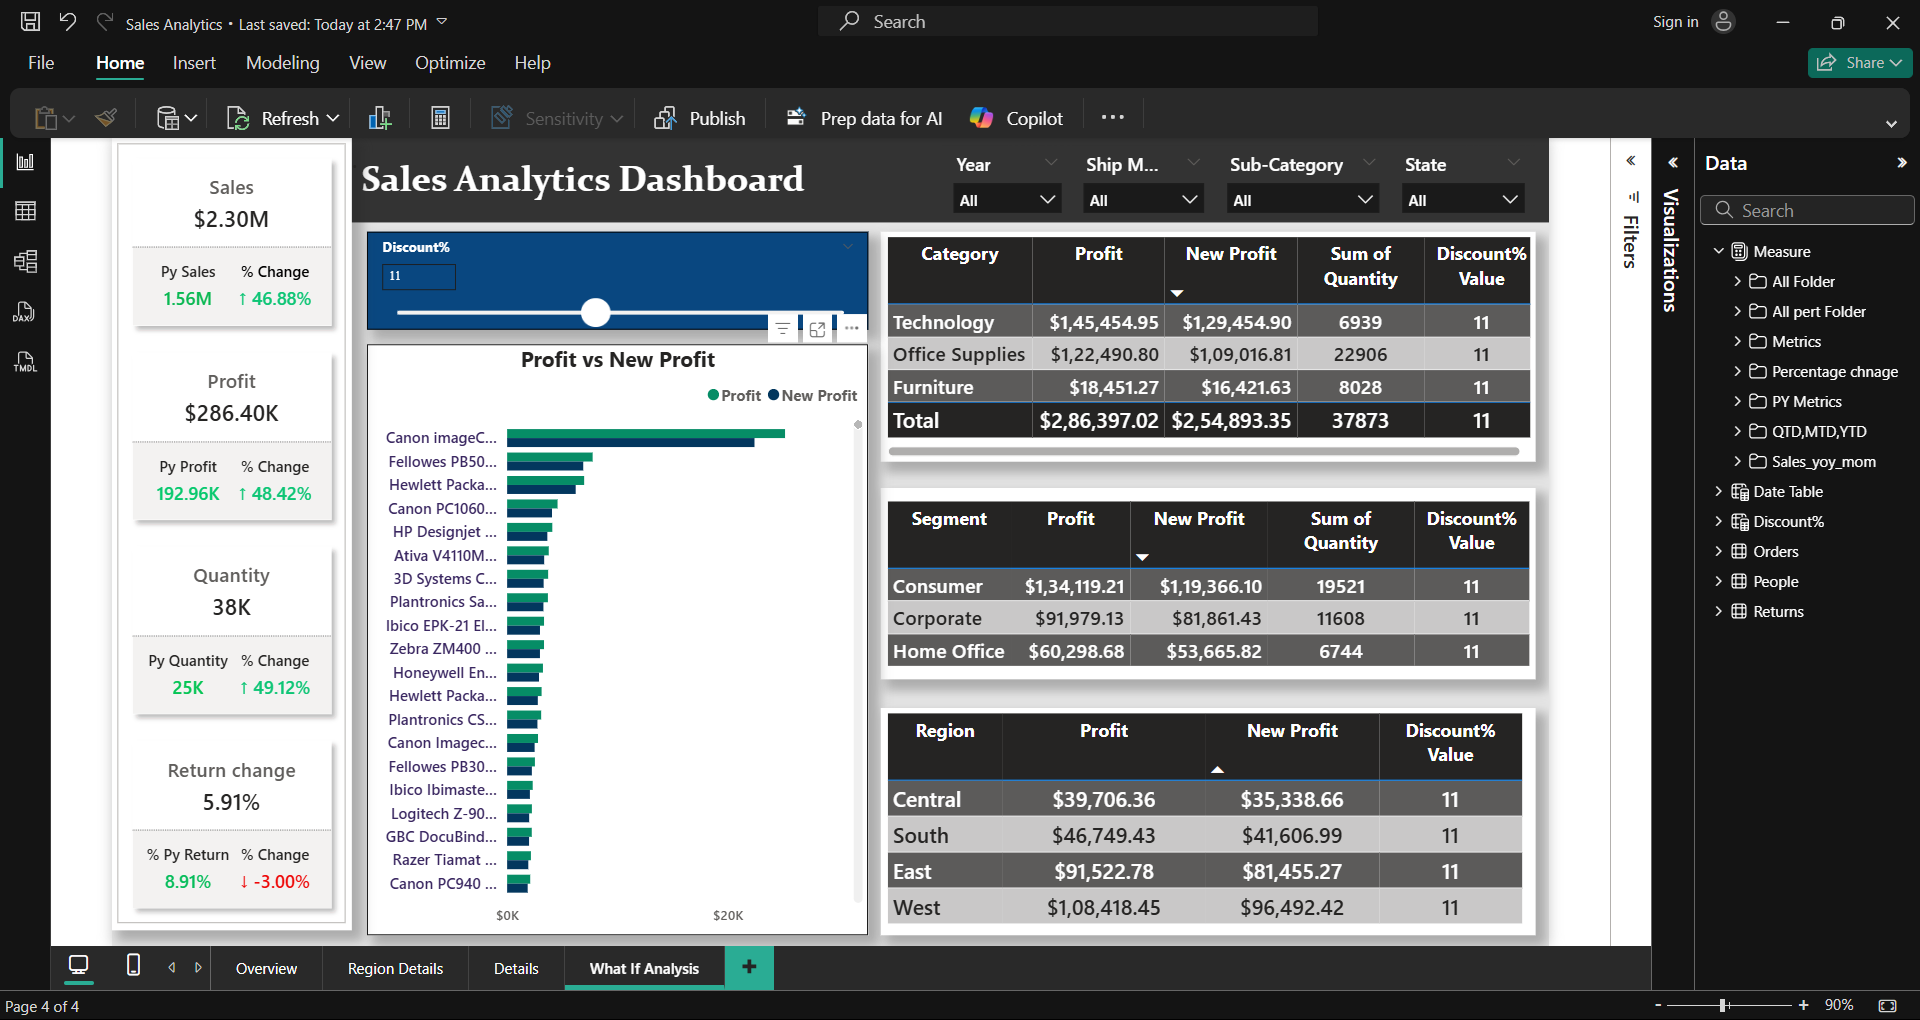

This screenshot's page, from the dashboard's own definition file:
{"tool":"powerbi","page":{"name":"What If Analysis","canvas":[1280,720],"ordinal":3},"visuals":[{"type":"textbox","box":[198.8,0,1081,74.8],"z":1000},{"type":"slicer","fields":{"Values":["Orders.State"]},"box":[1138.7,6.1,128.8,60.1],"z":2000},{"type":"slicer","fields":{"Values":["Orders.Sub-Category"]},"box":[982.9,6.7,155.8,60.1],"z":3000},{"type":"slicer","fields":{"Values":["Orders.Ship Mode"]},"box":[843.8,6.7,139.1,60.1],"z":4000},{"type":"slicer","fields":{"Values":["Date Table.Year"]},"box":[739.2,6.7,104.6,60.1],"z":5000},{"type":"tableEx","fields":{"Values":["Orders.Category","Measure.Profit","Discount%.New Profit","Sum(Orders.Quantity)","Discount%.Discount% Value"]},"box":[684.6,83.5,583.3,204.8],"z":6000},{"type":"slicer","fields":{"Values":["Discount%.Discount%"]},"box":[227,83.4,446.6,87.1],"z":7000},{"type":"tableEx","fields":{"Values":["Orders.Segment","Measure.Profit","Discount%.New Profit","Sum(Orders.Quantity)","Discount%.Discount% Value"]},"box":[684.7,311.7,582.8,170.6],"z":8000},{"type":"clusteredBarChart","title":"Profit vs New Profit","fields":{"Category":["Orders.Product Name"],"Y":["Measure.Profit","Discount%.New Profit"]},"box":[227,184.1,446.6,526.4],"z":9000},{"type":"tableEx","fields":{"Values":["Orders.Region","Measure.Profit","Discount%.New Profit","Discount%.Discount% Value"]},"box":[684.7,508,582.8,202.5],"z":10000},{"type":"cardVisual","fields":{"Data":["Measure.Sales","Measure.Profit","Measure.Quantity","Measure.% Return change"]},"box":[0,0,213.5,705.5],"z":10001}]}

Visuals, with their boxes on the page's 1280x720 design canvas (x1, y1, x2, y2). These are canvas units, not pixel positions in the 1920x1020 screenshot, which may show the page scaled, cropped or inside an application window:
textbox: (199, 0, 1280, 75)
slicer - Orders.State: (1139, 6, 1268, 66)
slicer - Orders.Sub-Category: (983, 7, 1139, 67)
slicer - Orders.Ship Mode: (844, 7, 983, 67)
slicer - Date Table.Year: (739, 7, 844, 67)
tableEx - Orders.Category x Measure.Profit: (685, 84, 1268, 288)
slicer - Discount%.Discount%: (227, 83, 674, 170)
tableEx - Orders.Segment x Measure.Profit: (685, 312, 1268, 482)
"Profit vs New Profit" clusteredBarChart: (227, 184, 674, 710)
tableEx - Orders.Region x Measure.Profit: (685, 508, 1268, 710)
cardVisual - Measure.Sales x Measure.Profit: (0, 0, 214, 706)
